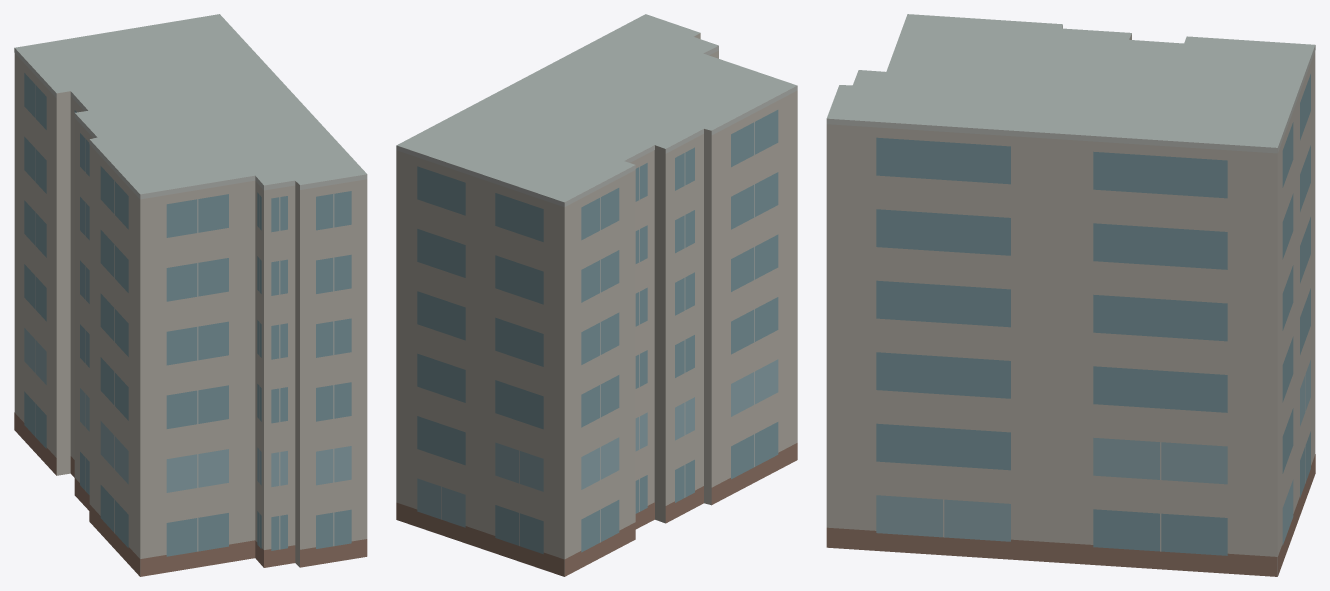
Rendered from survey-upis-32726734.glb.
3 views of the same model, side by side, from view 1: azimuth 30°, elevation 25°; view 2: azimuth 150°, elevation 25°; view 3: azimuth 270°, elevation 25° (orthographic). The views are drawn at different scales.
Parts seen in each view (by area): view 1: survey-upis-32726734.tmp; view 2: survey-upis-32726734.tmp; view 3: survey-upis-32726734.tmp.
Boxes of the visible parts, <box> form: survey-upis-32726734.tmp: <box>14,14,367,576</box>; survey-upis-32726734.tmp: <box>396,14,797,576</box>; survey-upis-32726734.tmp: <box>826,14,1315,576</box>.
Bounding box in the file's own units: 12.61 × 18.82 × 19.45.
